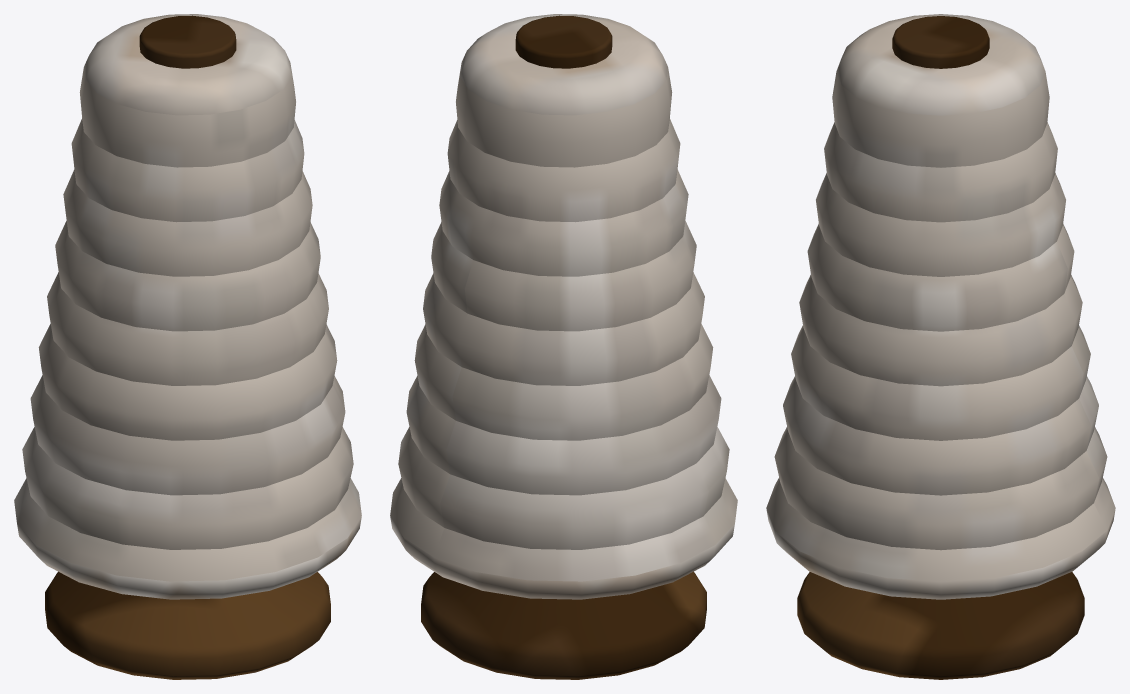
Rendered from Yarn.fbx.
The picture shows the model from 3 angles, left to right: view 1: azimuth 30°, elevation 25°; view 2: azimuth 150°, elevation 25°; view 3: azimuth 270°, elevation 25°; orthographic projection.
Parts seen in each view (by area): view 1: polySurface2; view 2: polySurface2; view 3: polySurface2.
Boxes of the visible parts, <box> form: polySurface2: <box>14,14,361,679</box>; polySurface2: <box>390,14,737,679</box>; polySurface2: <box>766,14,1115,679</box>.
Bounding box in the file's own units: 3.05 × 5.66 × 3.05.
